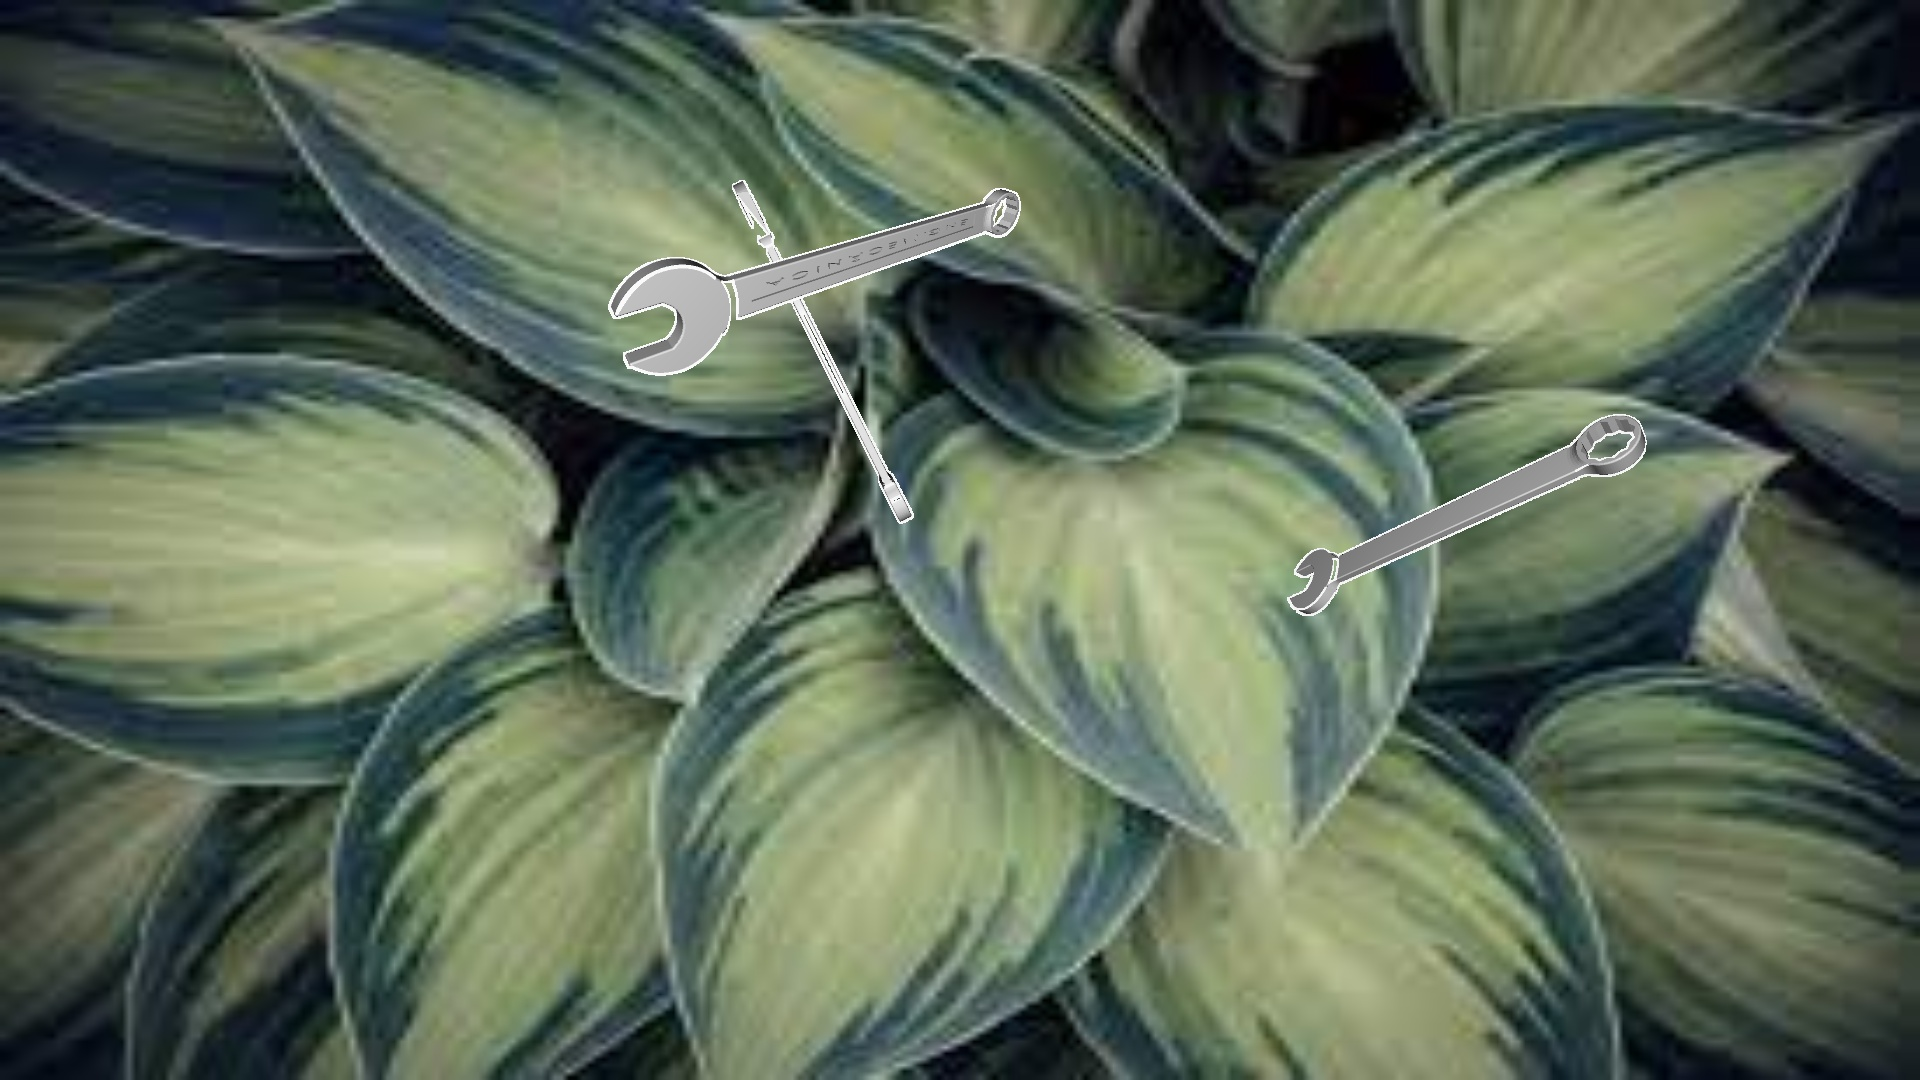Mixed Key: (608, 189, 1021, 375), (1287, 414, 1646, 615), (732, 179, 913, 524)
